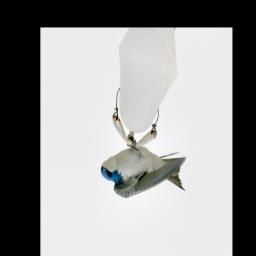Swallow: (97, 117, 193, 225)
